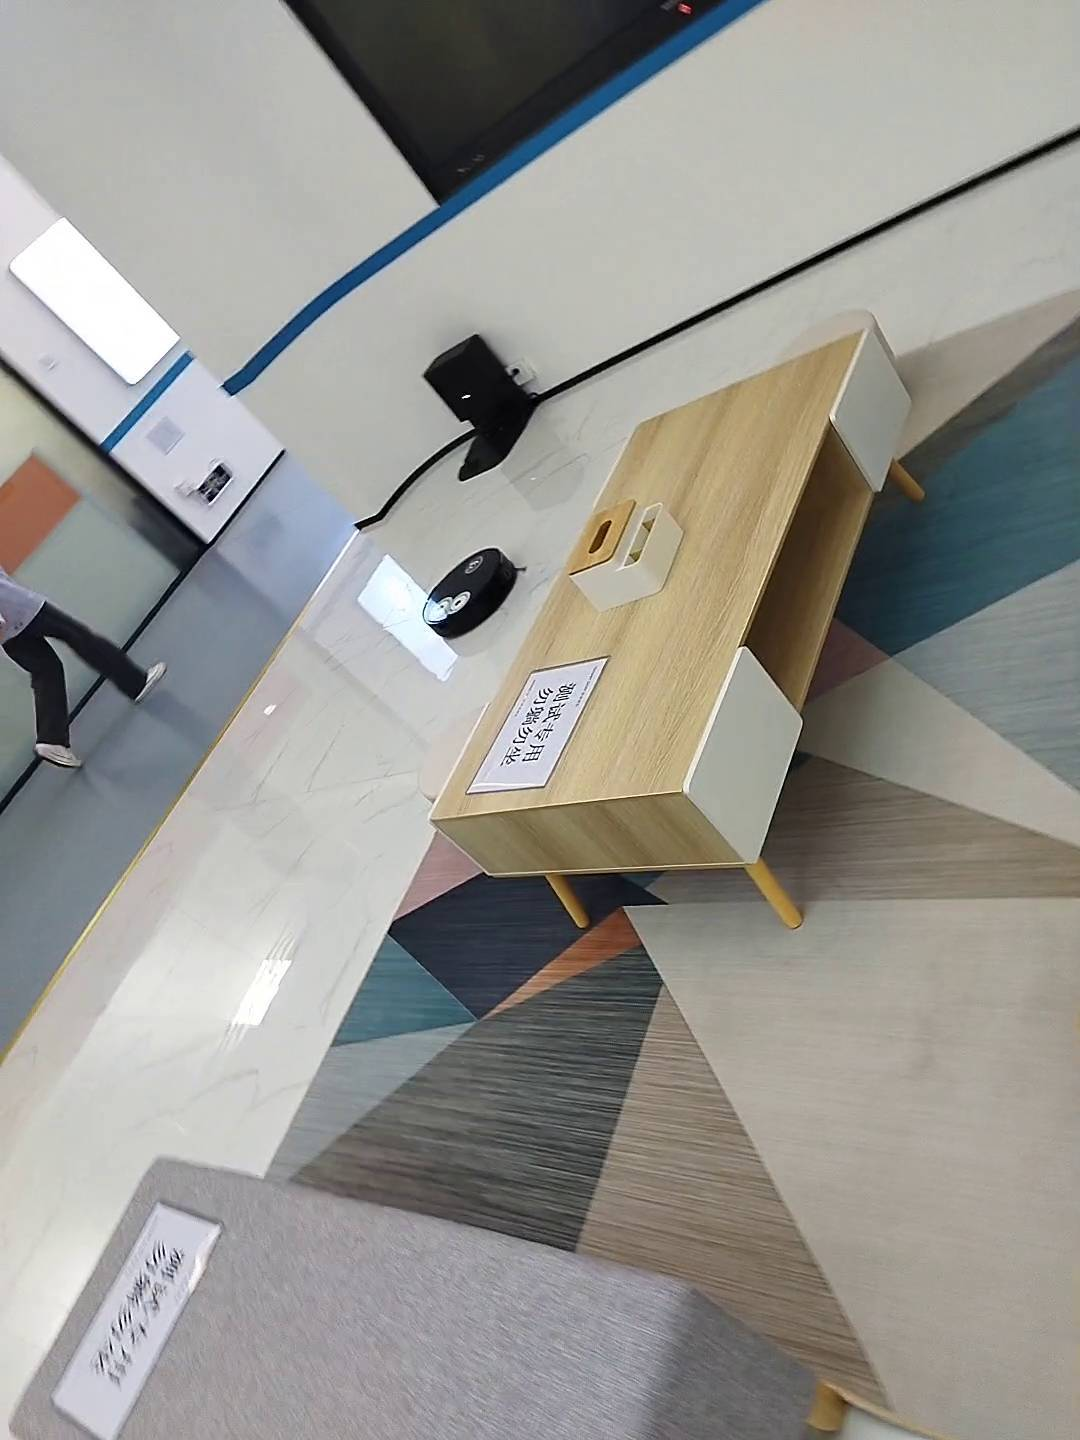dust collecting barrel: (423, 333, 537, 481)
